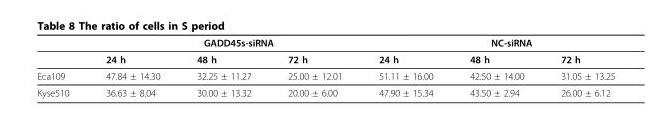table: (36, 36, 614, 97)
table column: (86, 36, 177, 97), (177, 36, 268, 97), (268, 36, 359, 97), (359, 36, 450, 97), (450, 36, 541, 97), (541, 36, 614, 97), (36, 36, 86, 97)
table column header: (36, 36, 614, 67)
table row: (36, 50, 614, 67), (36, 67, 614, 84), (36, 36, 614, 50), (36, 84, 614, 97)
table spanning cell: (86, 36, 359, 50), (359, 36, 614, 50)
